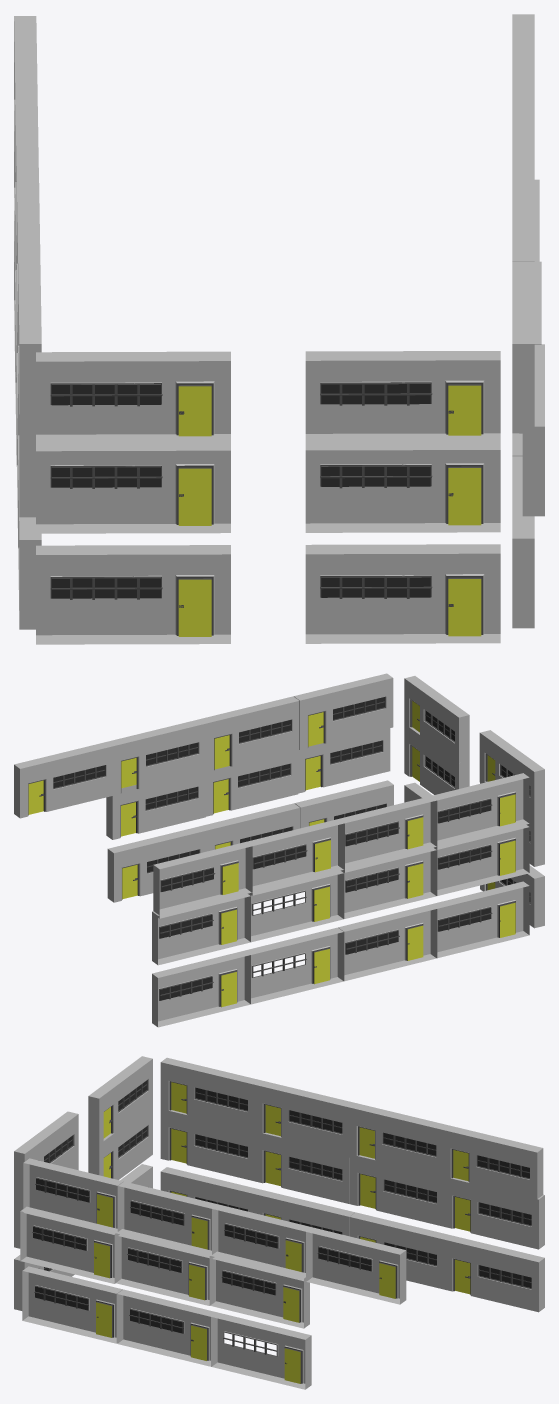
File: appart zone 3.fbx
The picture shows the model from 3 angles, top to bottom: view 1: azimuth 30°, elevation 25°; view 2: azimuth 150°, elevation 25°; view 3: azimuth 270°, elevation 25°; orthographic projection. The views are drawn at different scales.
Parts seen in each view (by area): view 1: MSH_facade_porte_appartement_01__40_, MSH_facade_porte_appartement_01__41_, MSH_facade_porte_appartement_01__37_, MSH_facade_porte_appartement_01__39_, MSH_facade_porte_appartement_01__36_, MSH_facade_porte_appartement_01__38_, MSH_facade_porte_appartement_01__5_, MSH_facade_porte_appartement_01__28_, MSH_facade_porte_appartement_01__10_, MSH_facade_porte_appartement_01__6_, MSH_facade_porte_appartement_01__54_, MSH_facade_porte_appartement_01__29_ (+6 smaller); view 2: MSH_facade_porte_appartement_01__54_, MSH_facade_porte_appartement_01__4_, MSH_facade_porte_appartement_01__5_, MSH_facade_porte_appartement_01__53_, MSH_facade_porte_appartement_01__3_, MSH_facade_porte_appartement_01__55_, MSH_facade_porte_appartement_01__32_, MSH_facade_porte_appartement_01__2_, MSH_facade_porte_appartement_01__28_, MSH_facade_porte_appartement_01__52_, MSH_facade_porte_appartement_01__33_, MSH_facade_porte_appartement_01__31_ (+15 smaller); view 3: MSH_facade_porte_appartement_01__8_, MSH_facade_porte_appartement_01__55_, MSH_facade_porte_appartement_01__29_, MSH_facade_porte_appartement_01__6_, MSH_facade_porte_appartement_01__4_, MSH_facade_porte_appartement_01__10_, MSH_facade_porte_appartement_01__9_, MSH_facade_porte_appartement_01__28_, MSH_facade_porte_appartement_01__22_, MSH_facade_porte_appartement_01, MSH_facade_porte_appartement_01__1_, MSH_facade_porte_appartement_01__7_ (+15 smaller).
Part boxes in pixels (box(x1,y1,x2,y2)): MSH_facade_porte_appartement_01__40_: box(305, 544, 500, 643); MSH_facade_porte_appartement_01__41_: box(36, 545, 230, 644); MSH_facade_porte_appartement_01__37_: box(305, 433, 500, 532); MSH_facade_porte_appartement_01__39_: box(36, 434, 230, 533); MSH_facade_porte_appartement_01__36_: box(305, 351, 500, 450); MSH_facade_porte_appartement_01__38_: box(36, 351, 230, 451); MSH_facade_porte_appartement_01__5_: box(512, 261, 534, 433); MSH_facade_porte_appartement_01__28_: box(18, 261, 41, 433); MSH_facade_porte_appartement_01__10_: box(512, 456, 534, 628); MSH_facade_porte_appartement_01__6_: box(522, 344, 544, 516); MSH_facade_porte_appartement_01__54_: box(18, 458, 41, 629); MSH_facade_porte_appartement_01__29_: box(14, 16, 37, 181); MSH_facade_porte_appartement_01__54_: box(430, 881, 529, 958); MSH_facade_porte_appartement_01__4_: box(14, 742, 113, 818); MSH_facade_porte_appartement_01__5_: box(294, 673, 393, 749); MSH_facade_porte_appartement_01__53_: box(244, 927, 343, 1004); MSH_facade_porte_appartement_01__3_: box(200, 696, 299, 772); MSH_facade_porte_appartement_01__55_: box(152, 950, 250, 1027); MSH_facade_porte_appartement_01__32_: box(430, 819, 529, 895); MSH_facade_porte_appartement_01__2_: box(107, 719, 206, 795); MSH_facade_porte_appartement_01__28_: box(430, 773, 529, 849); MSH_facade_porte_appartement_01__52_: box(338, 904, 437, 981); MSH_facade_porte_appartement_01__33_: box(152, 888, 250, 965); MSH_facade_porte_appartement_01__31_: box(244, 865, 343, 942); MSH_facade_porte_appartement_01__8_: box(117, 1289, 217, 1366); MSH_facade_porte_appartement_01__55_: box(444, 1235, 544, 1312); MSH_facade_porte_appartement_01__29_: box(442, 1125, 543, 1202); MSH_facade_porte_appartement_01__6_: box(20, 1206, 120, 1283); MSH_facade_porte_appartement_01__4_: box(306, 1227, 406, 1304); MSH_facade_porte_appartement_01__10_: box(22, 1266, 122, 1343); MSH_facade_porte_appartement_01__9_: box(254, 1080, 354, 1157); MSH_facade_porte_appartement_01__28_: box(160, 1057, 260, 1134); MSH_facade_porte_appartement_01__22_: box(349, 1103, 448, 1179); MSH_facade_porte_appartement_01: box(115, 1229, 215, 1305); MSH_facade_porte_appartement_01__1_: box(210, 1251, 309, 1328); MSH_facade_porte_appartement_01__7_: box(211, 1312, 311, 1389).
Bounding box in the file's own units: 65.88 × 24.64 × 74.42.
